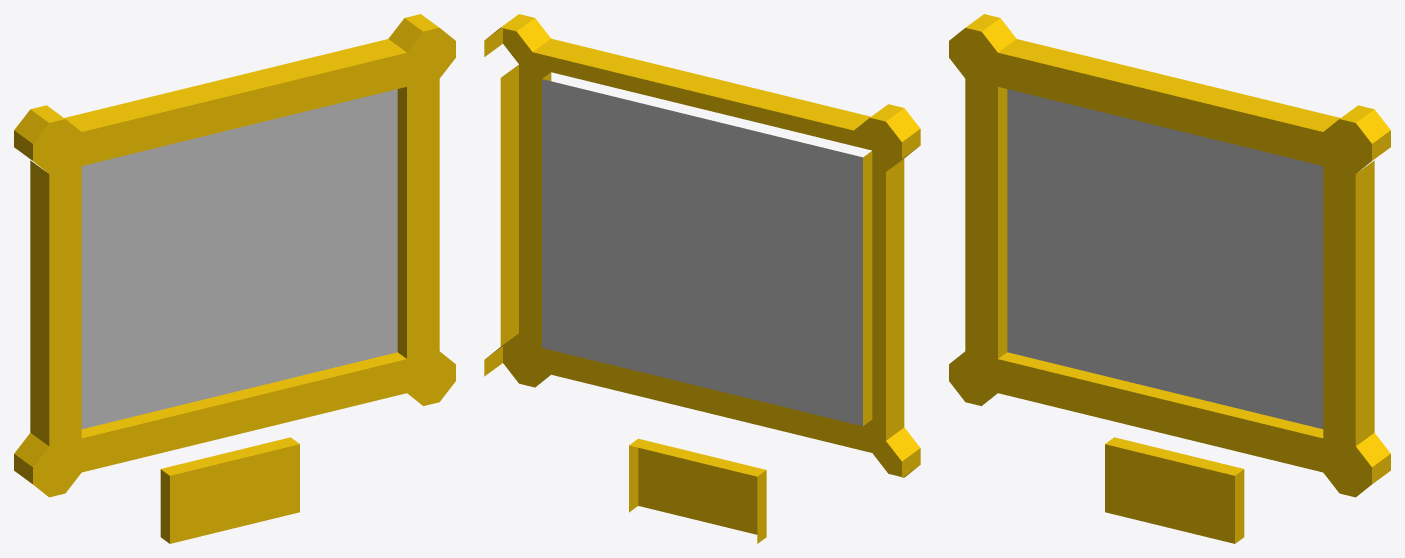
The model's file is landscape.obj.
The picture shows the model from 3 angles, left to right: view 1: azimuth 30°, elevation 25°; view 2: azimuth 150°, elevation 25°; view 3: azimuth 330°, elevation 25°; orthographic projection.
Visible parts, largest first — view 1: landscape_back; view 2: landscape_back; view 3: landscape_back.
Boxes of the visible parts, <box> form: landscape_back: <box>14,14,455,543</box>; landscape_back: <box>484,14,920,543</box>; landscape_back: <box>949,14,1390,543</box>.
Bounding box in the file's own units: 1.04 × 1.08 × 0.08.
